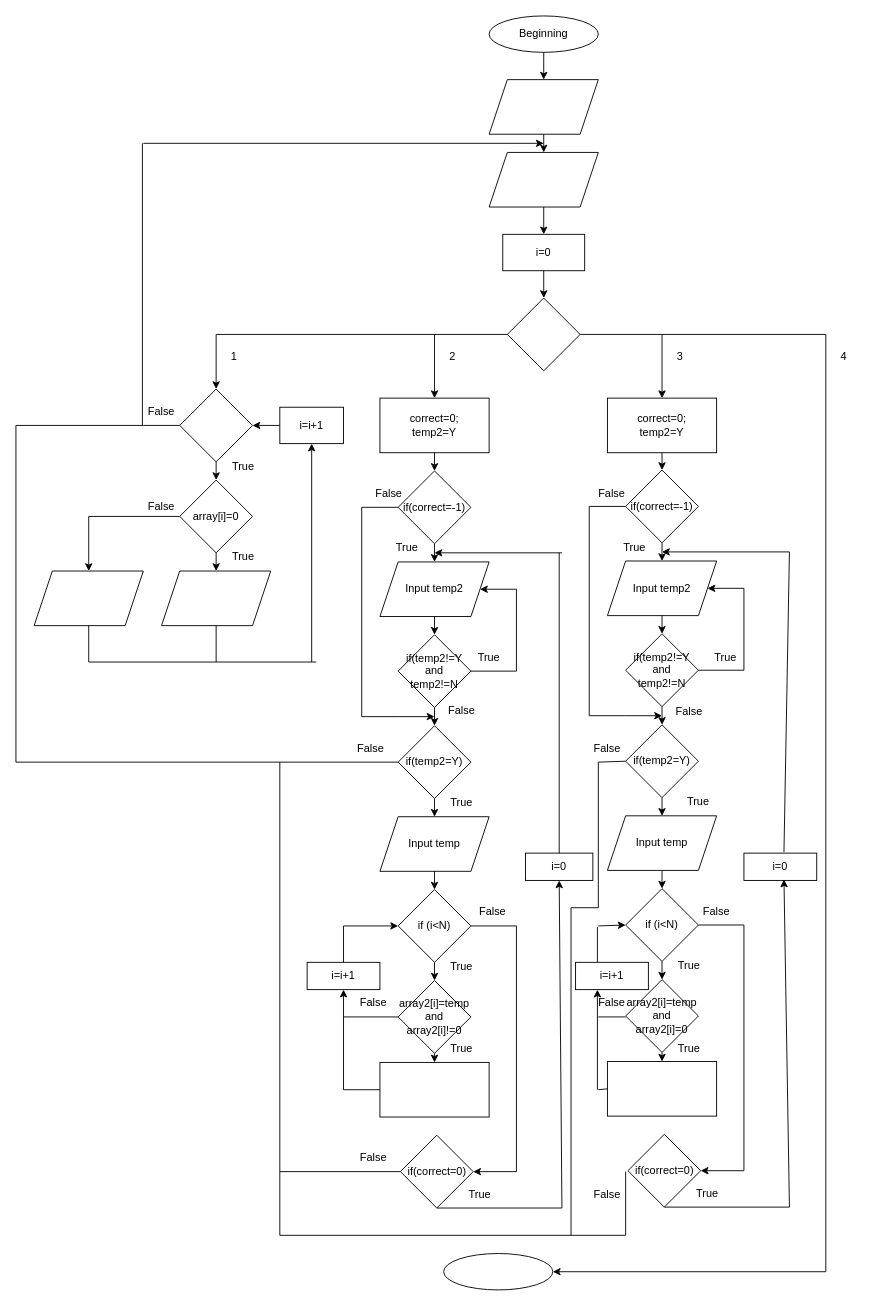
Image size: 887x1306. Some labels were removed from this diagram. Here are the shapes that lost their labels. From the top down, the centre of each, then its label:
At [543,106]: "Input N, array, array2".
At [543,179]: "Output menu Input action".
At [543,334]: "action".
At [216,425]: "if(i<N)".
At [88,598]: "array[i]".
At [216,598]: "array[i] -- Absent".
At [434,1089]: "array2[i]=0; correct=correct+1".
At [662,1088]: "array2[i]=array[i]; correct=correct+1".
At [498,1271]: "End".
